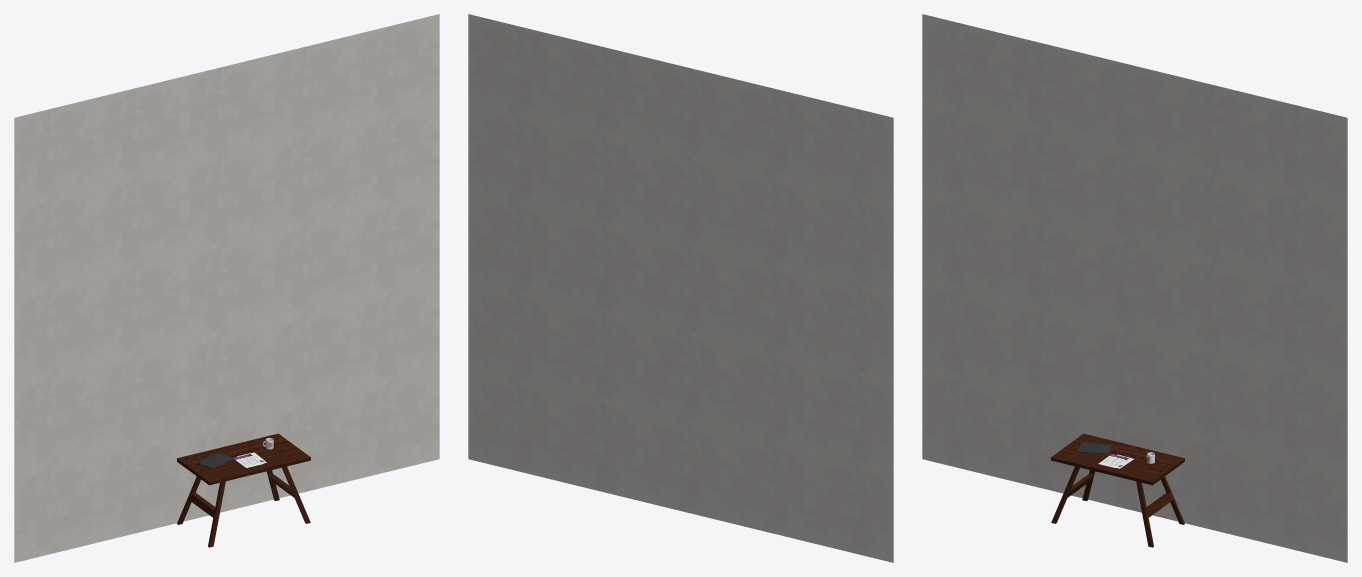
Rendered from resume_office.gltf.
3 renders of one model, left to right at view 1: azimuth 30°, elevation 25°; view 2: azimuth 150°, elevation 25°; view 3: azimuth 330°, elevation 25°, orthographic.
Parts seen in each view (by area): view 1: wall_object, desk_object; view 2: wall_object; view 3: wall_object, desk_object.
Part boxes in pixels (x1,y1,x2,y2): wall_object: (14,14,439,562); desk_object: (177,433,310,547); wall_object: (468,14,893,562); wall_object: (922,14,1347,562); desk_object: (1051,433,1184,547).
Bounding box in the file's own units: 5 × 5 × 0.6731.
Materials: 8 (8 with a texture image).
